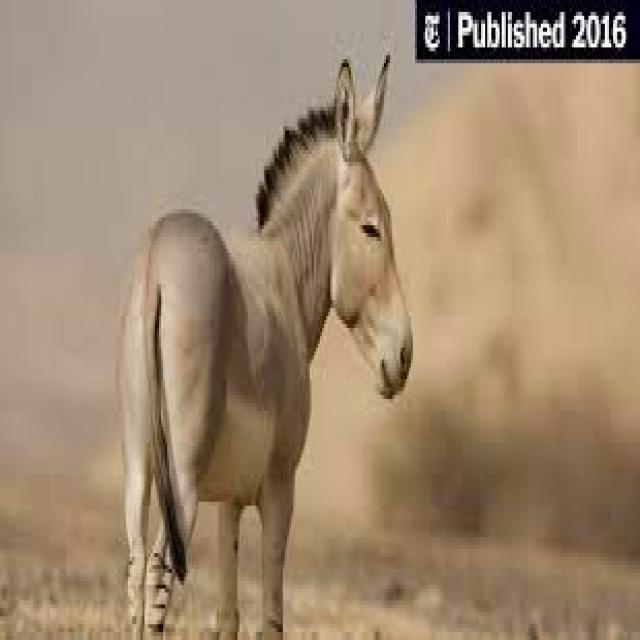donkey: (118, 55, 411, 636)
